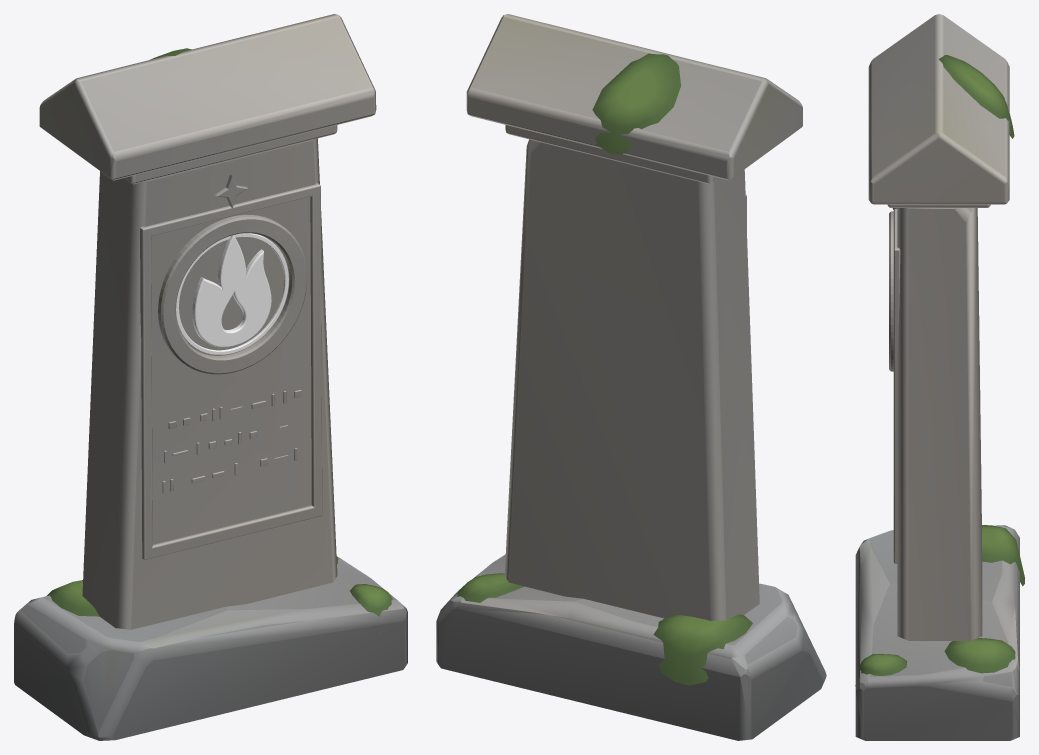
File: stele_fire.glb
3 renders of one model, left to right at view 1: azimuth 30°, elevation 25°; view 2: azimuth 150°, elevation 25°; view 3: azimuth 270°, elevation 25°, orthographic. The views are drawn at different scales.
Parts seen in each view (by area): view 1: stele_fire_LOD0; view 2: stele_fire_LOD0; view 3: stele_fire_LOD0.
Part boxes in pixels (x1,y1,x2,y2): stele_fire_LOD0: [14, 14, 407, 740]; stele_fire_LOD0: [436, 14, 826, 740]; stele_fire_LOD0: [855, 14, 1024, 740].
Size of what is drawn, in the model's own units: 1.32 by 2.52 by 0.6512.
